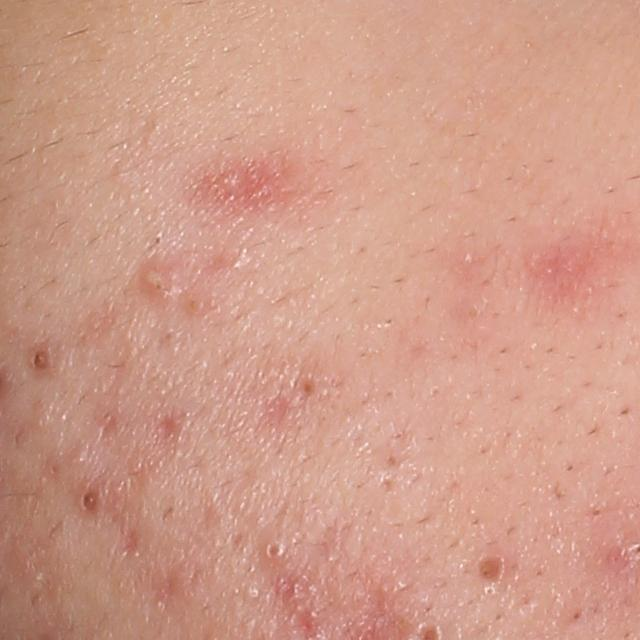atrophic_scar: (157, 406, 177, 448), (121, 526, 143, 555)
comedo: (473, 548, 513, 585), (76, 480, 106, 519), (261, 534, 292, 564), (28, 345, 54, 374)
pustule: (135, 257, 185, 305)
